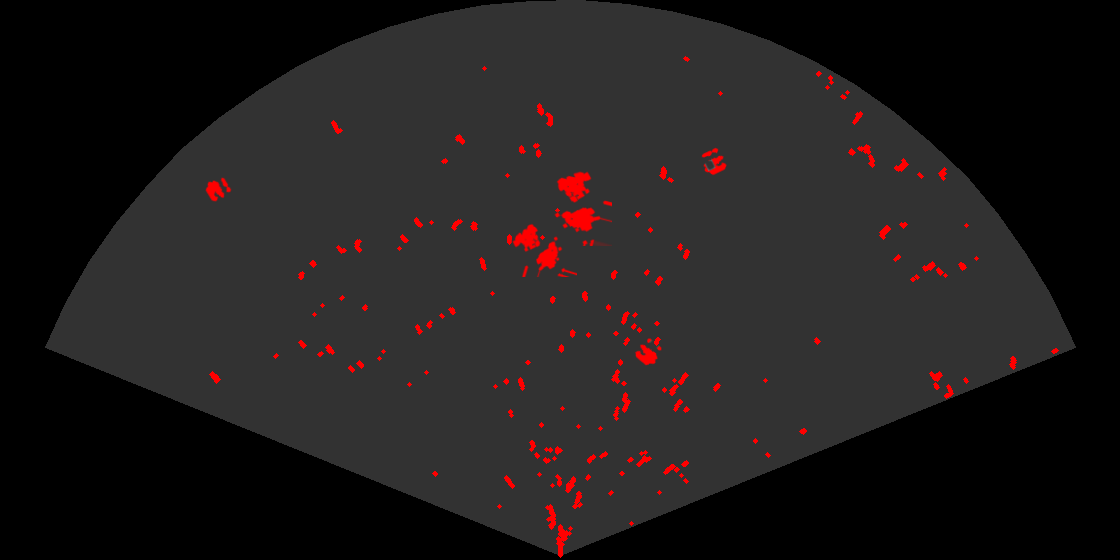ball: (633, 337, 663, 367), (700, 146, 728, 177), (204, 176, 233, 203)
cage: (553, 170, 612, 246), (511, 222, 577, 277)
